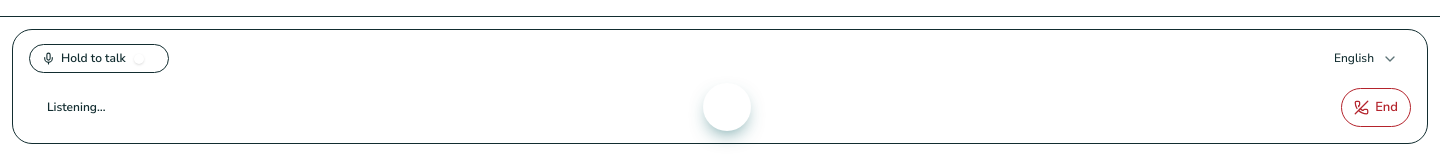
voice mode › the mic mutes: tells the server, stops the track, and unmutes the same way
Click the button named "Mute microphone": (727,107) [703, 83, 751, 131]
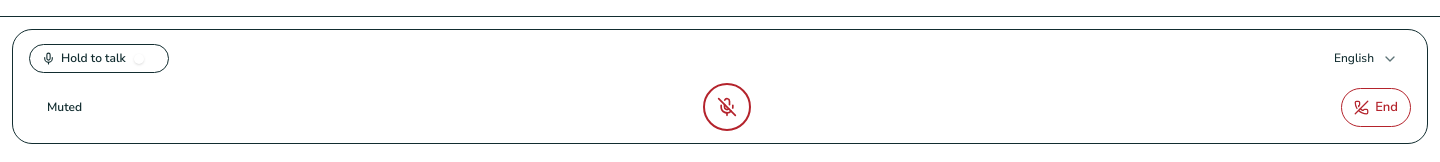
Expected: the text "Muted" is shown, [47, 100, 82, 115]
Click the button named "Unmute microphone": (727,107) [703, 83, 751, 131]
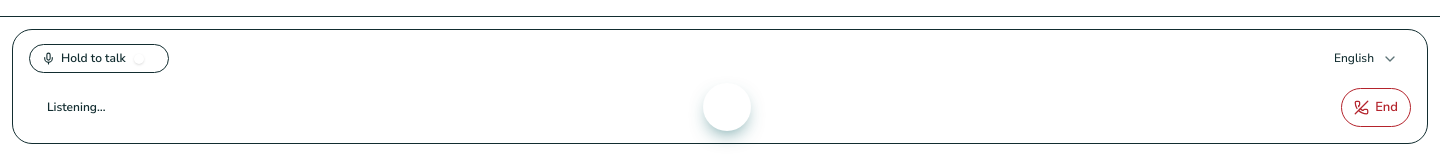
Expected: the text "Listening…" is shown, [47, 100, 106, 115]
